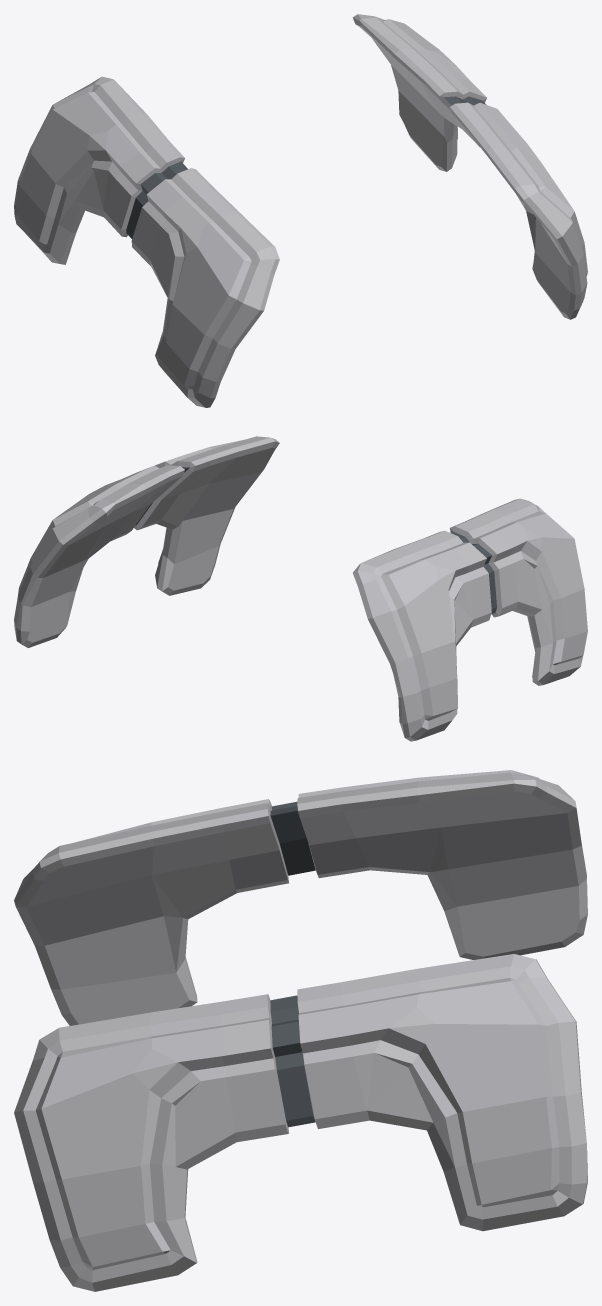
File: Fighter_06_Side_Frame.fbx
The picture shows the model from 3 angles, top to bottom: view 1: azimuth 30°, elevation 25°; view 2: azimuth 150°, elevation 25°; view 3: azimuth 270°, elevation 25°; orthographic projection. The views are drawn at different scales.
Visible parts, largest first — view 1: Fighter_06_Side_Frame; view 2: Fighter_06_Side_Frame; view 3: Fighter_06_Side_Frame.
Boxes of the visible parts, x1,y1,x2,y2 form: Fighter_06_Side_Frame: (14,14,587,407); Fighter_06_Side_Frame: (14,436,587,741); Fighter_06_Side_Frame: (14,770,587,1291).
Size of the model in its own units: 310 by 146 by 256.
Materials: 1 (1 with a texture image).
